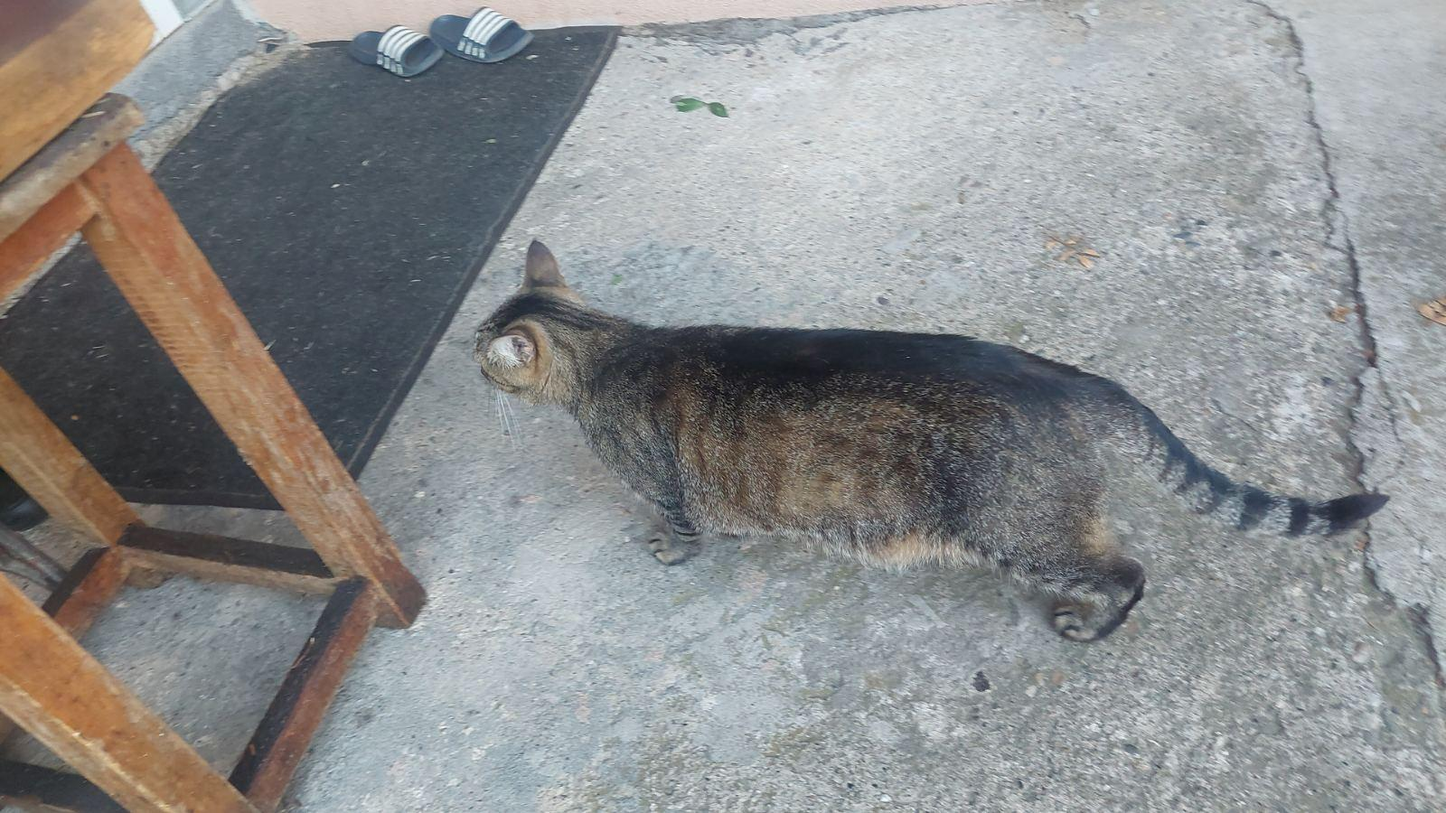macka: (474, 239, 1386, 643)
